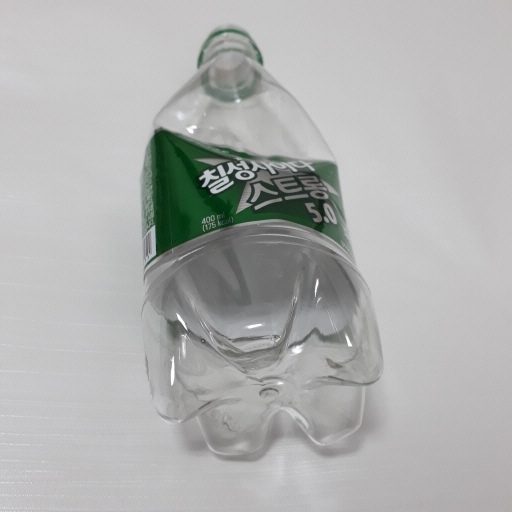Plastic_0: (137, 22, 386, 464)
